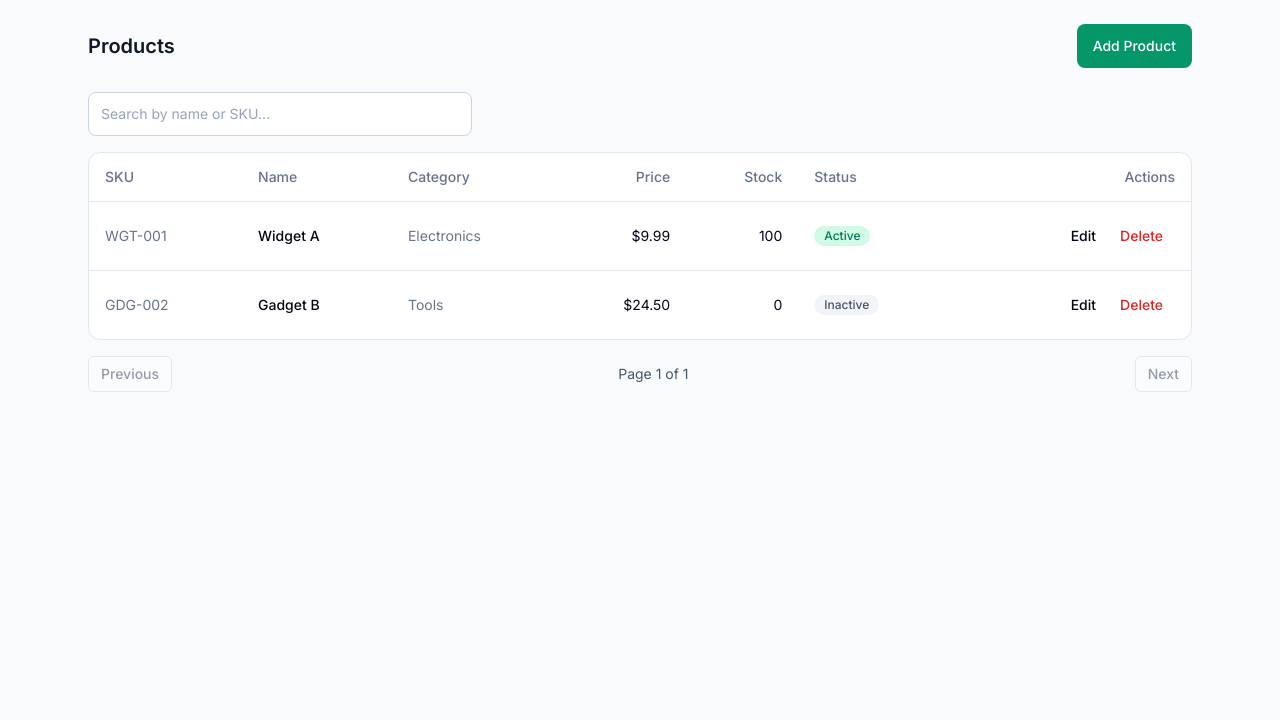
Test: ProductsPage › shows delete confirmation dialog when Delete clicked
Click the button "Delete" in the row of "WGT-001" at (1142, 236), box [1108, 218, 1175, 254]
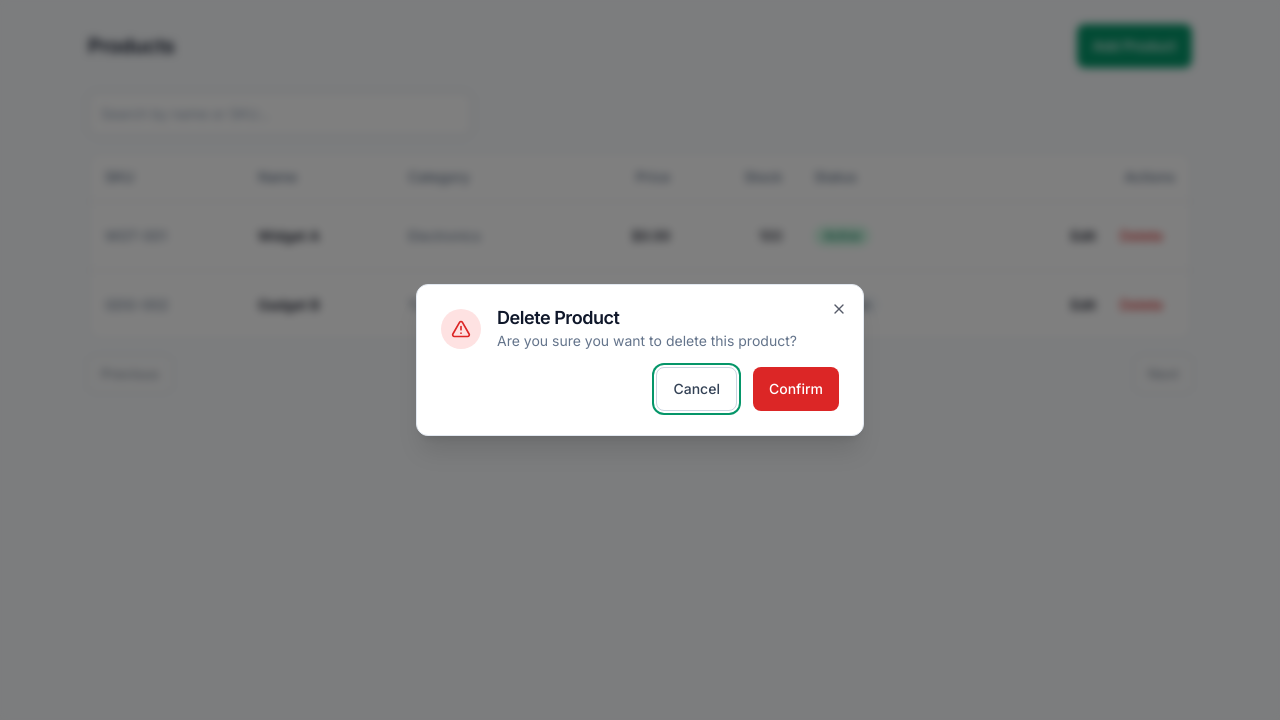
Now the dialog is shown, box [416, 284, 864, 436]
Now the text "Are you sure you want to delete this product?" is shown, box [497, 331, 797, 351]
